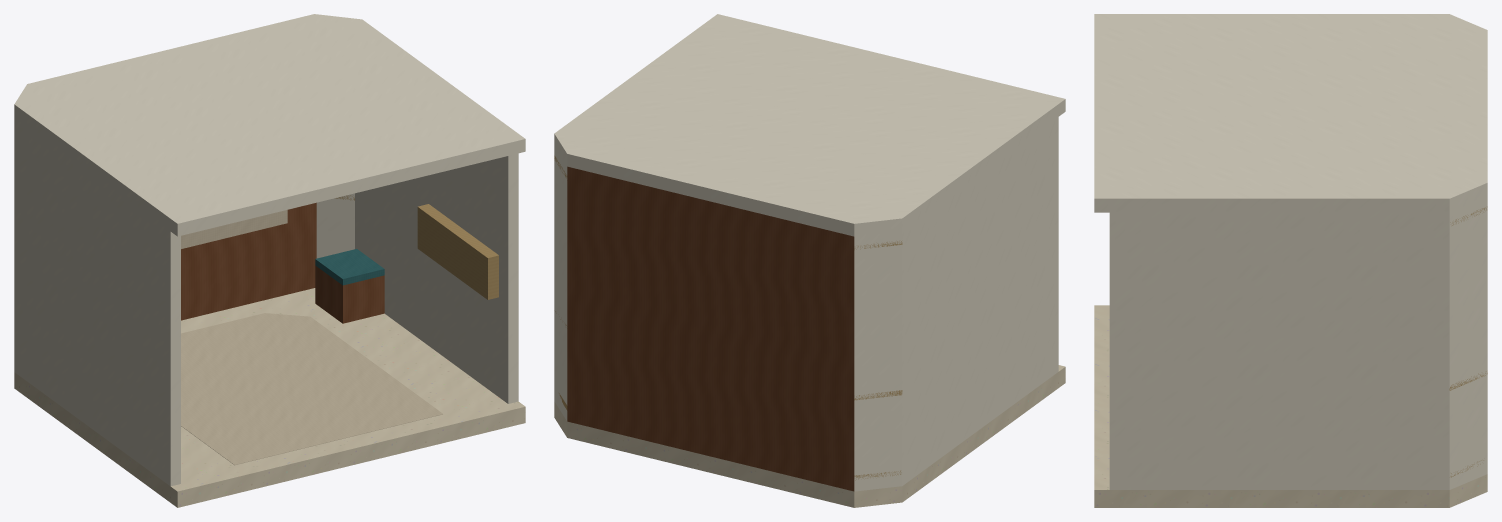
Rendered from AST-CIR-003_five_stop.glb.
The picture shows the model from 3 angles, left to right: view 1: azimuth 30°, elevation 25°; view 2: azimuth 150°, elevation 25°; view 3: azimuth 270°, elevation 25°; orthographic projection. The views are drawn at different scales.
Visible parts, largest first — view 1: CAB_ivory_enamel, CAB_oatmeal_weave, CAB_warm_stone, CAB_warm_walnut, CAB_champagne_metal, CAB_teal_weave; view 2: CAB_ivory_enamel, CAB_warm_walnut, CAB_warm_stone, CAB_champagne_metal; view 3: CAB_ivory_enamel, CAB_warm_stone.
Boxes of the visible parts, bbox=[...] form: CAB_ivory_enamel: bbox=[14, 14, 525, 486]; CAB_oatmeal_weave: bbox=[181, 210, 442, 465]; CAB_warm_stone: bbox=[14, 288, 525, 507]; CAB_warm_walnut: bbox=[181, 202, 384, 323]; CAB_champagne_metal: bbox=[335, 195, 498, 299]; CAB_teal_weave: bbox=[315, 249, 384, 285]; CAB_ivory_enamel: bbox=[554, 14, 1065, 491]; CAB_warm_walnut: bbox=[567, 166, 854, 491]; CAB_warm_stone: bbox=[554, 365, 1065, 507]; CAB_champagne_metal: bbox=[554, 155, 902, 480]; CAB_ivory_enamel: bbox=[1094, 14, 1487, 489]; CAB_warm_stone: bbox=[1094, 305, 1487, 507].
Bounding box in the file's own units: 4 × 3.12 × 3.6.
Materials: 7 (6 with a texture image).
